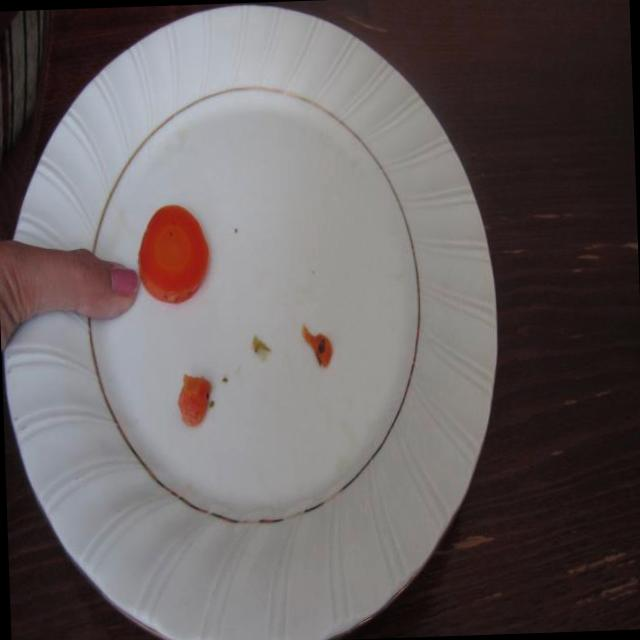Carrot: (136, 198, 214, 312)
Finger: (60, 240, 143, 336)
